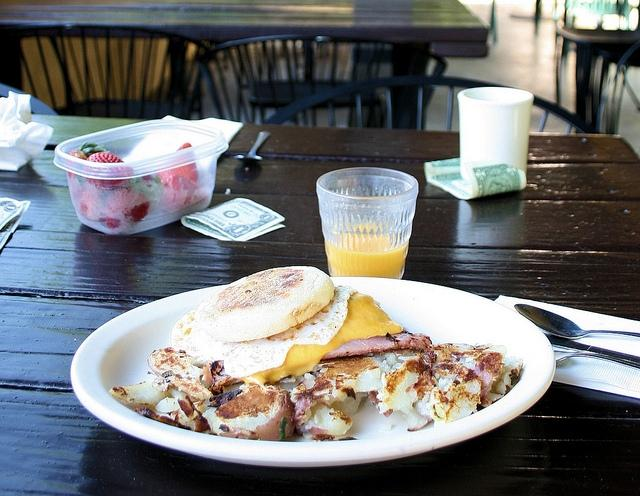strawberry: (142, 174, 211, 213), (82, 152, 134, 190), (105, 187, 149, 229), (156, 143, 198, 183), (80, 187, 106, 222), (68, 140, 105, 160)
